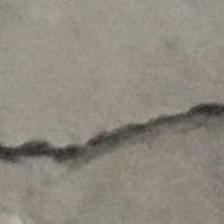Crack: (0, 85, 224, 182)
